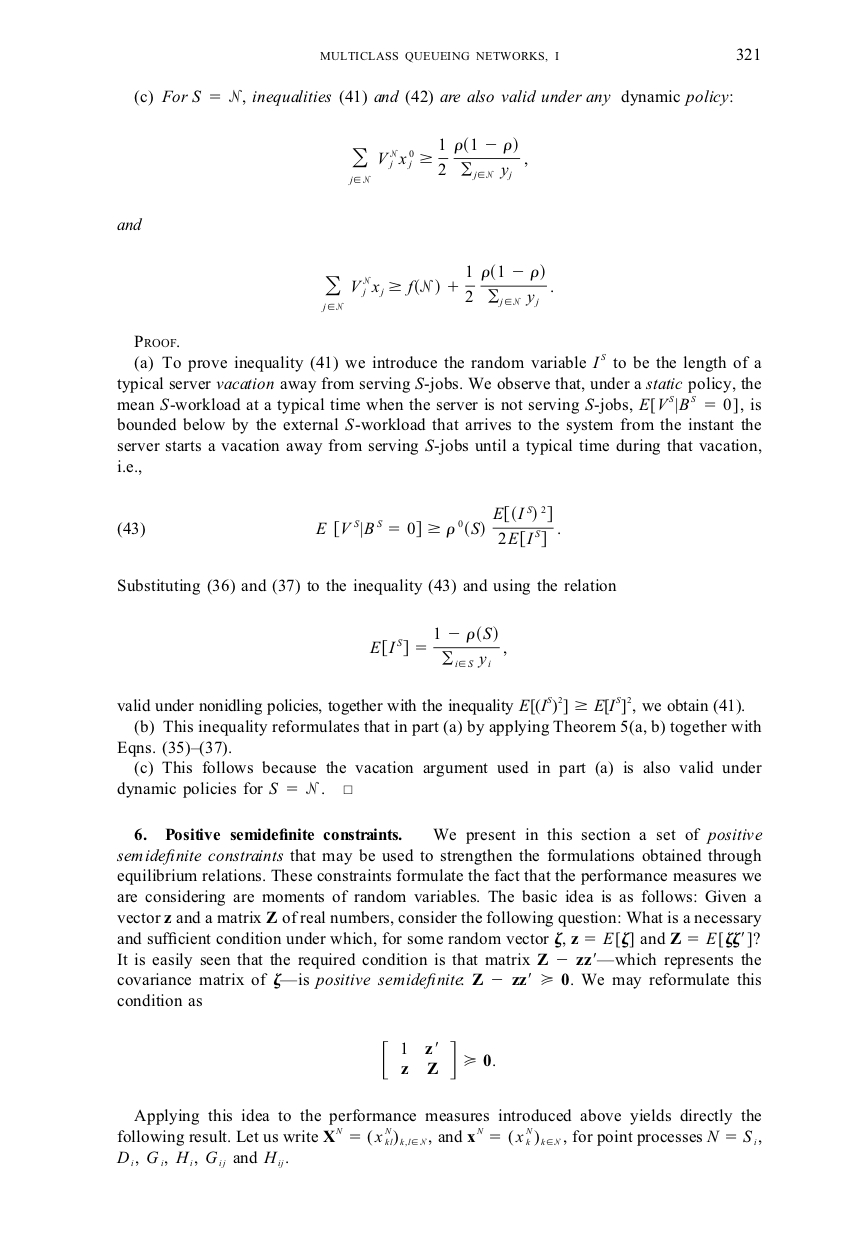formula: (117, 505, 559, 548), (323, 263, 552, 310), (348, 136, 527, 185), (369, 625, 506, 668), (383, 1040, 494, 1080)
